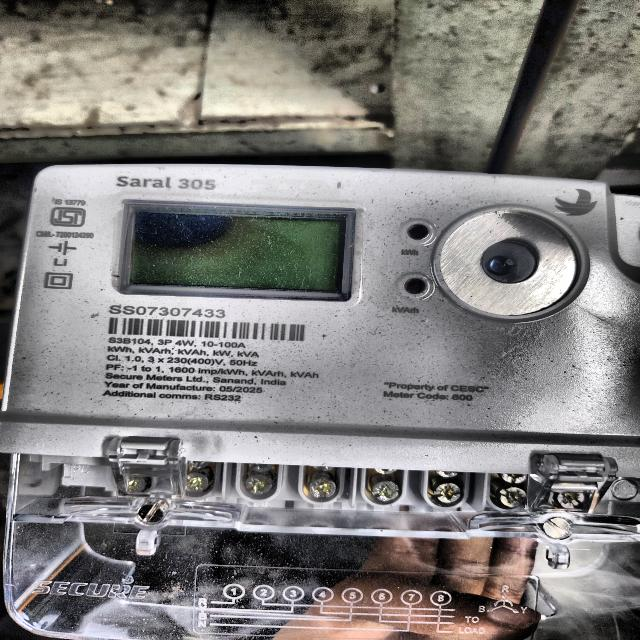Digital: (2, 161, 640, 557)
Reading: (136, 213, 342, 293)
Serial No.: (136, 306, 228, 318)
